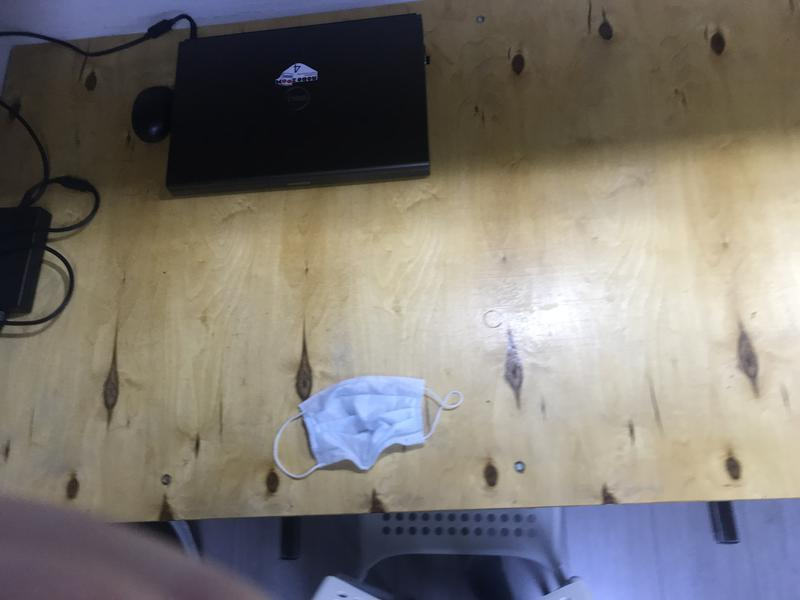medical_mask: (274, 375, 463, 480)
